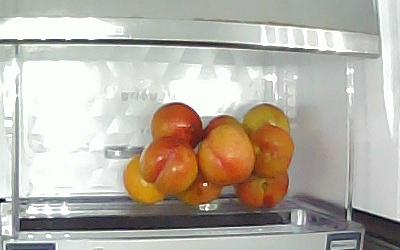prune: (139, 137, 199, 194), (199, 126, 255, 184), (234, 158, 289, 210), (247, 123, 297, 176), (149, 103, 205, 150), (123, 154, 166, 204), (241, 103, 290, 144), (175, 169, 223, 205)
